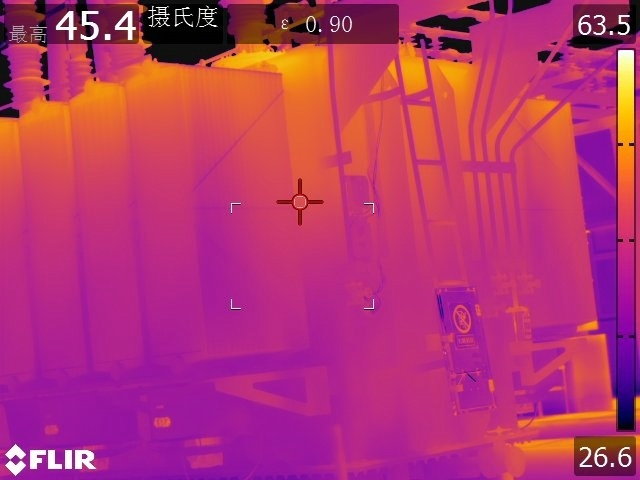transformer: (1, 55, 308, 409)
tube: (3, 1, 53, 104), (99, 1, 153, 66), (219, 1, 281, 46), (64, 18, 97, 100)
